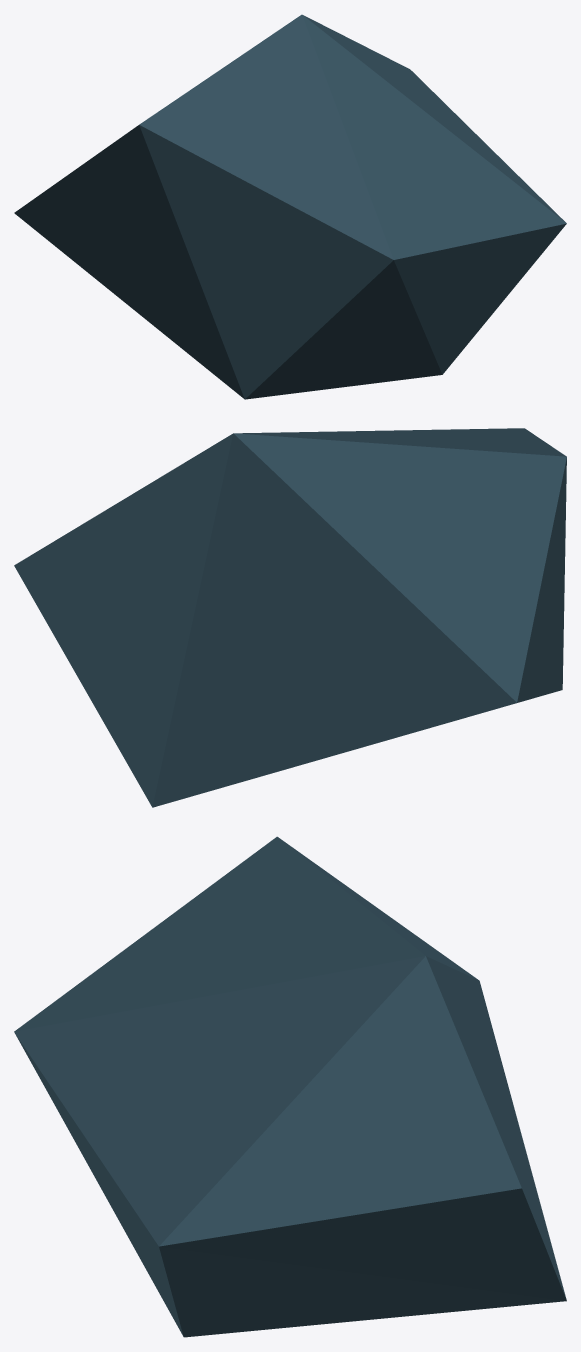
File: Blue_Planet_Ring_01_Asteroid.fbx
3 renders of one model, top to bottom at view 1: azimuth 30°, elevation 25°; view 2: azimuth 150°, elevation 25°; view 3: azimuth 270°, elevation 25°, orthographic. The views are drawn at different scales.
Visible parts, largest first — view 1: Blue_Planet_Ring_01_Asteroid; view 2: Blue_Planet_Ring_01_Asteroid; view 3: Blue_Planet_Ring_01_Asteroid.
Boxes of the visible parts, left/top/right/bottom form: Blue_Planet_Ring_01_Asteroid: left=14, top=14, right=566, bottom=399; Blue_Planet_Ring_01_Asteroid: left=14, top=428, right=566, bottom=807; Blue_Planet_Ring_01_Asteroid: left=14, top=836, right=566, bottom=1337.
Size of the model in its own units: 663 by 448 by 627.
